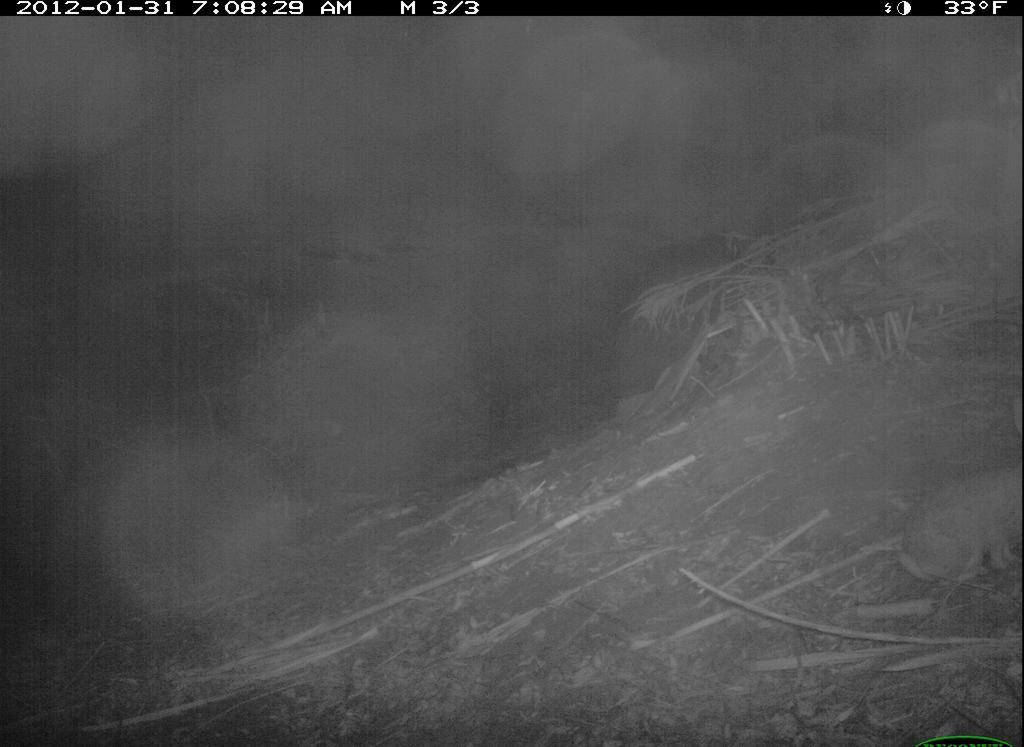rabbit: (895, 396, 1023, 591)
